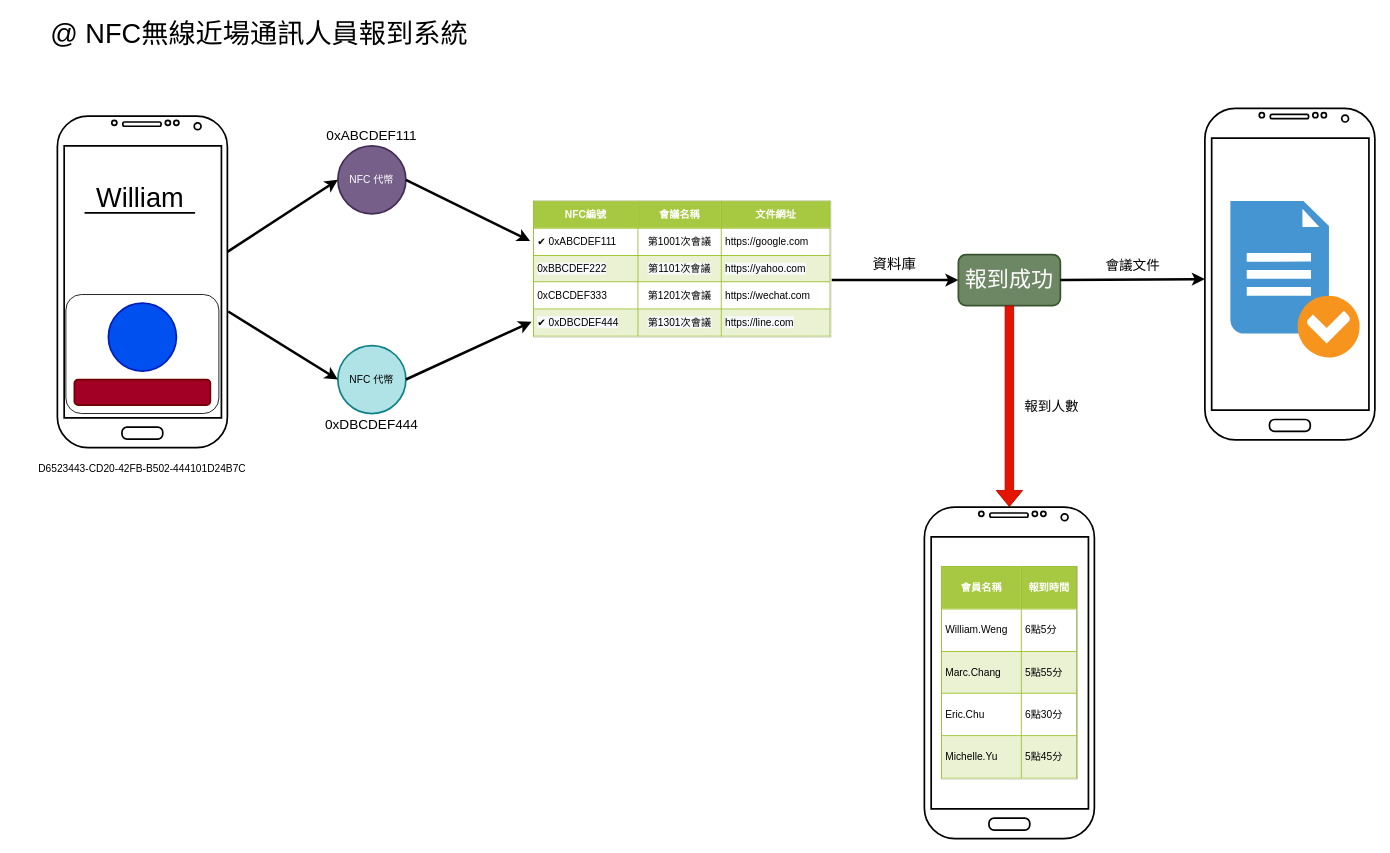
The diagram is 1390 pixels wide and 853 high, and some of its shapes have lost their labels. The shapes that lost their labels are listed below. From the top down, each one's centre as x and y in pixels, then its label:
At (x=142, y=336): "請掃描NFC".
At (x=142, y=391): "取消".
